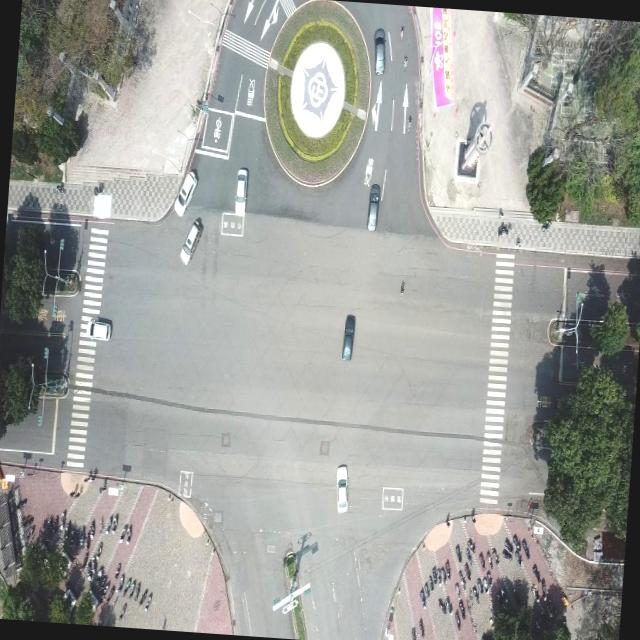bike: (530, 561, 543, 583), (522, 538, 532, 562), (141, 588, 151, 612), (484, 568, 494, 592), (118, 598, 128, 622), (120, 522, 130, 544), (452, 542, 462, 564), (436, 594, 446, 616), (502, 538, 512, 560), (464, 556, 473, 580), (16, 491, 28, 509), (417, 616, 426, 639), (106, 510, 115, 533), (465, 536, 475, 556), (453, 608, 462, 630), (429, 566, 438, 588), (454, 582, 463, 604), (124, 576, 132, 600), (418, 586, 427, 607), (86, 554, 95, 575), (512, 532, 521, 552), (477, 550, 486, 570), (132, 580, 140, 601), (439, 561, 446, 585), (88, 518, 96, 538), (488, 548, 497, 564), (95, 539, 102, 559), (59, 508, 66, 528), (118, 572, 125, 592), (477, 575, 484, 594), (446, 594, 452, 614), (409, 625, 416, 640)
car: (229, 163, 253, 220), (173, 168, 197, 219), (82, 311, 116, 347), (338, 314, 361, 361), (365, 181, 383, 236), (180, 216, 200, 264), (370, 26, 388, 75), (333, 464, 349, 514)
